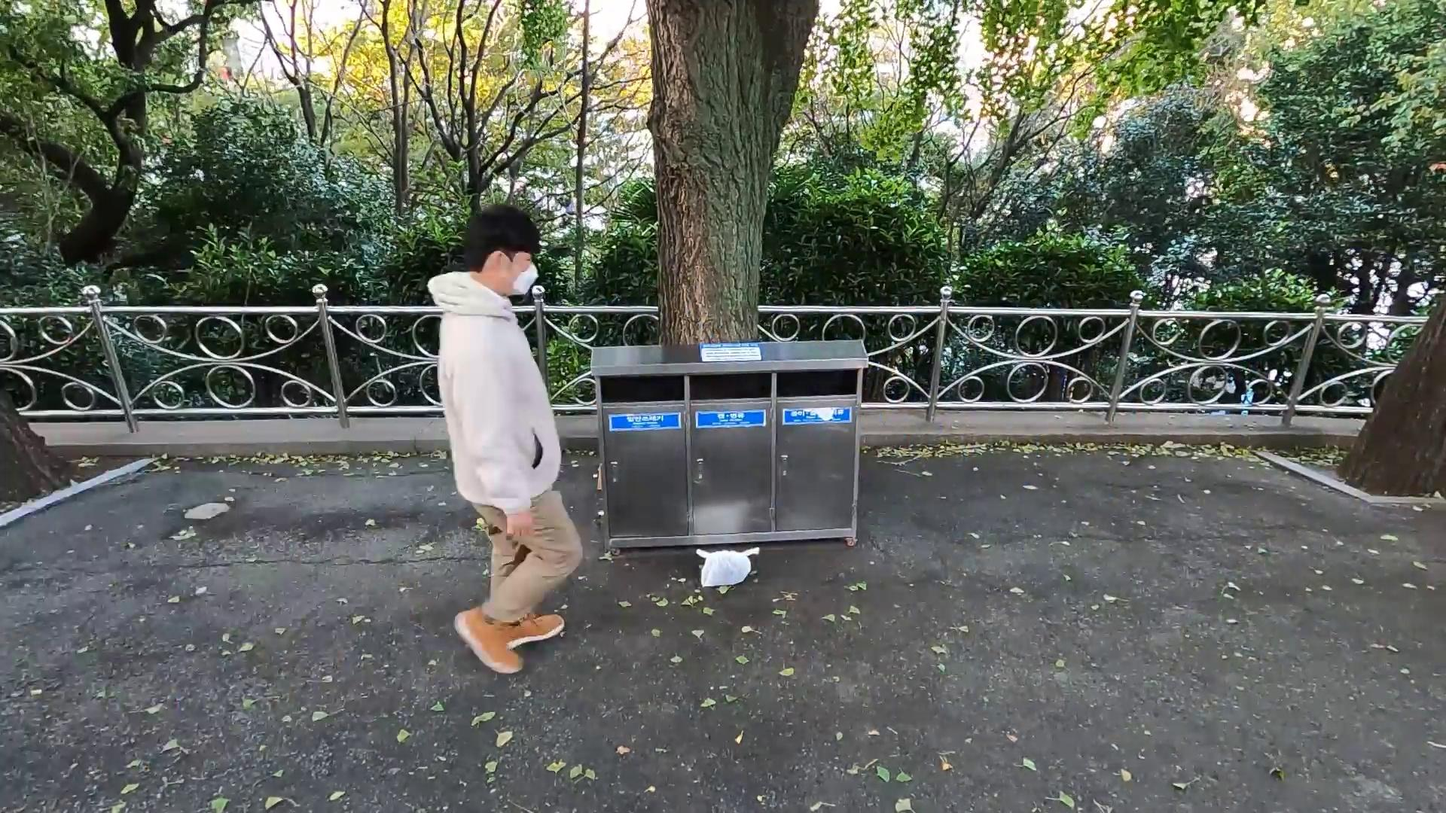person: (412, 203, 593, 675)
trash: (679, 546, 768, 593)
